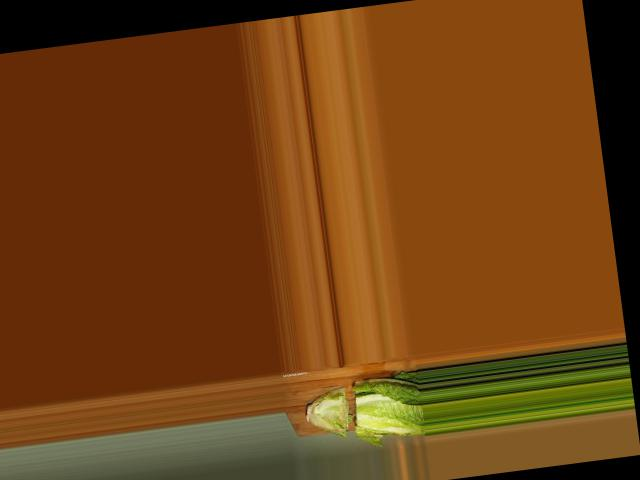lettuce: (302, 365, 424, 452)
